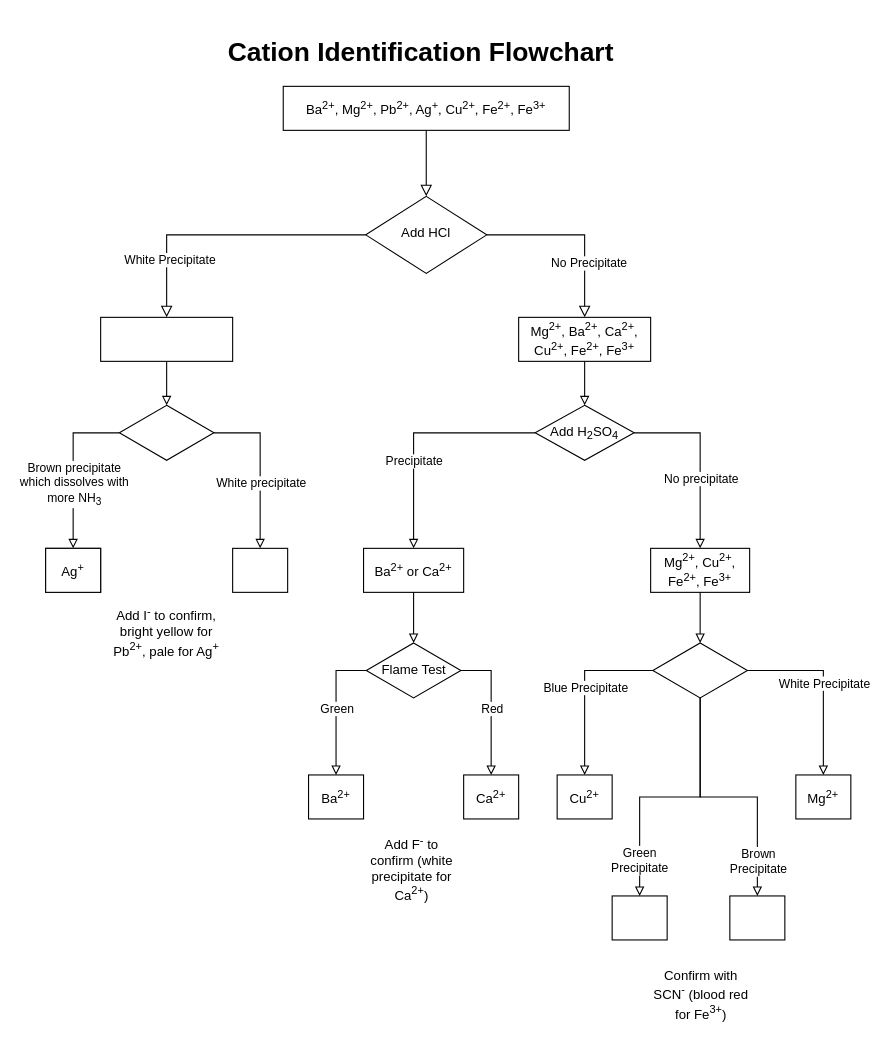
Some shapes in this 889 by 1041 pixel diagram are drawn without their labels. Each missing label, with the box of its shape:
Add NaOH: (652, 642, 747, 698)
Add NH 3: (118, 404, 214, 460)
Ag + or Pb 2+: (100, 316, 233, 361)
Fe 2+: (611, 895, 667, 940)
Fe 3+: (729, 895, 785, 940)
Pb 2+: (232, 547, 288, 592)
